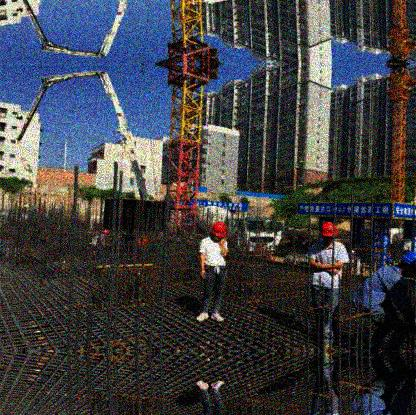helmet: (319, 221, 339, 246), (400, 249, 416, 277), (209, 221, 227, 243), (102, 229, 110, 238)
